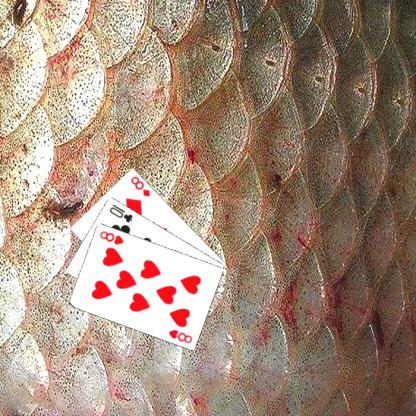10C: (108, 202, 136, 224)
8D: (130, 173, 153, 198)
8H: (98, 228, 126, 246), (168, 327, 195, 344)
